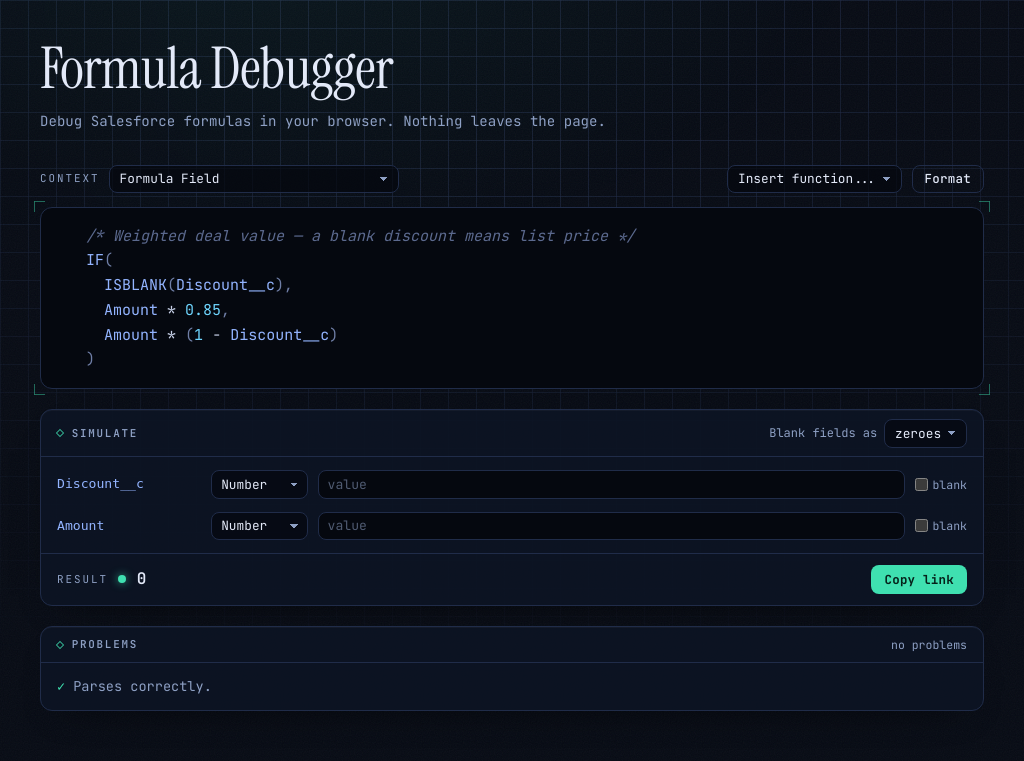
Test: re-checks against the selected context
The width and height of the screenshot is (1024, 761).
Select "Validation Rule" in the dropdown labelled "Context". click: (254, 179)
box: 109,164 -> 399,193
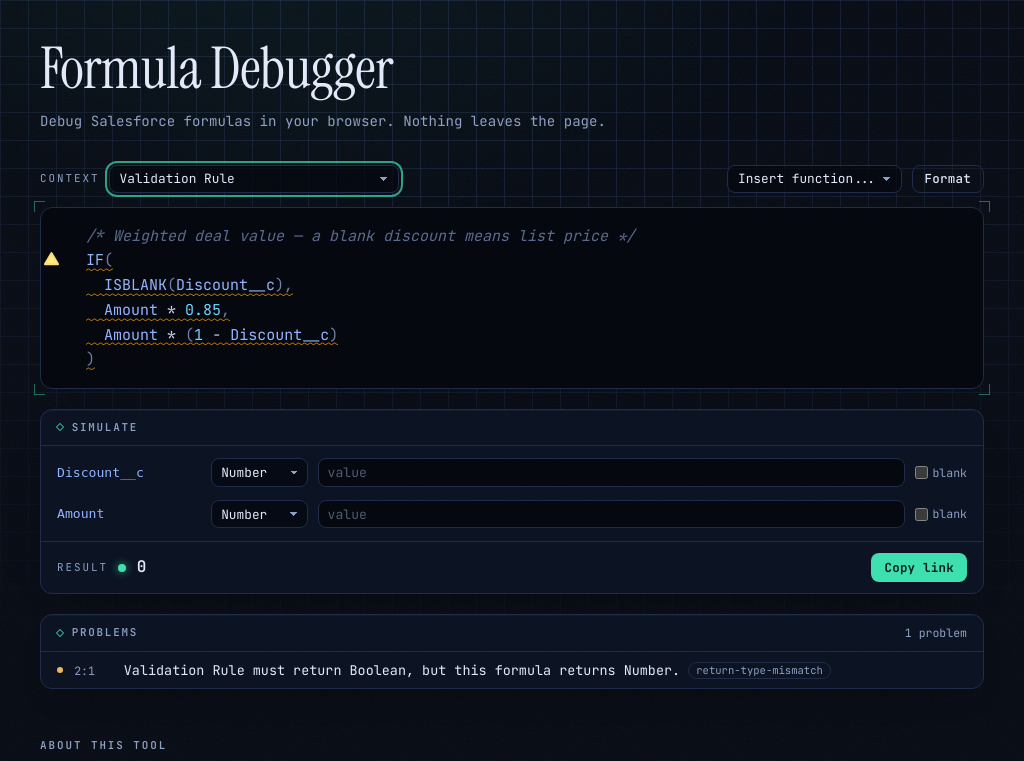
Expected: the text "must return Boolean" is shown, 124,661 -> 680,679
